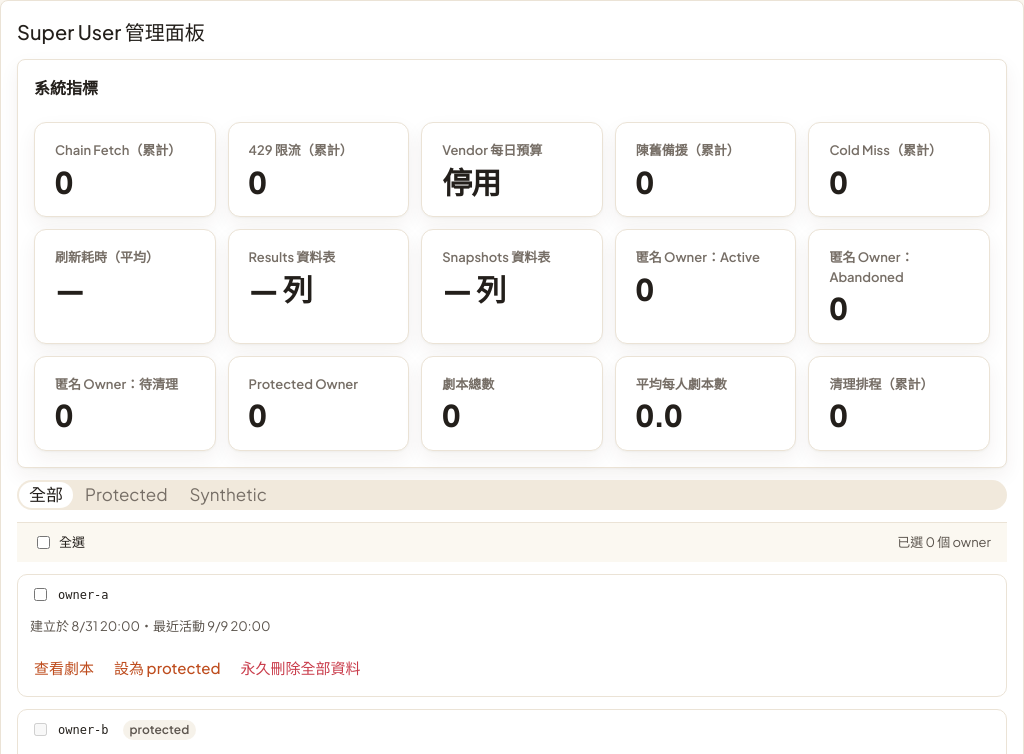
Test: SuperUserAdmin › CLAUDE-BETA-LAUNCH-FINAL-001：全選／清除選取 › 只選一部分時全選呈現 indeterminate；清除選取把選取歸零
Check: the text "owner-a" is shown, box [58,586,109,604]
Click the checkbox named "選取 owner owner-a" at [40, 594], box [34,588,47,601]
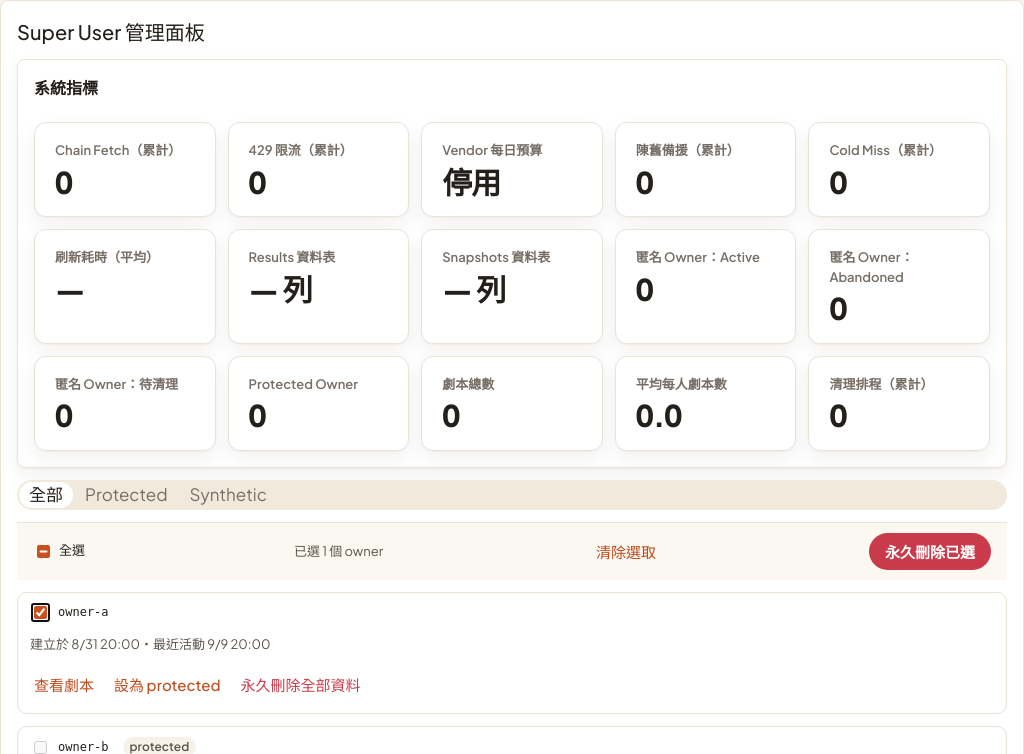
Check: the checkbox labelled "全選" is not checked, box [37,544,50,558]
Click the button "清除選取" at [626, 551], box [592,532,660,570]
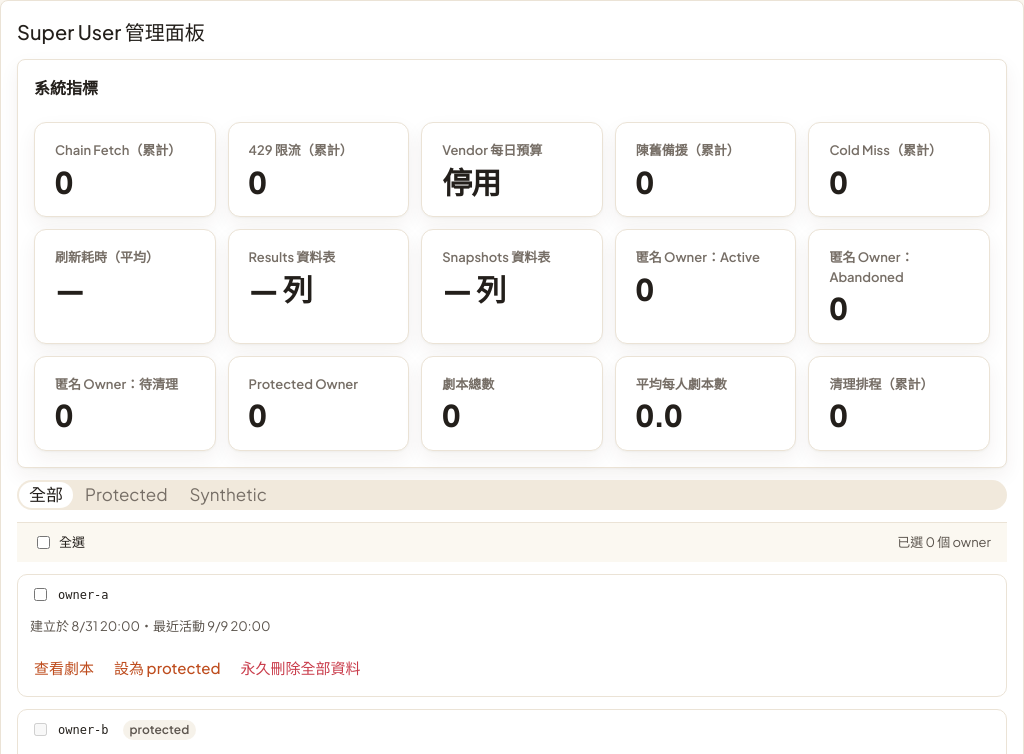
Check: the checkbox named "選取 owner owner-a" is not checked, box [34,588,47,601]
Check: the text "已選 0 個 owner" is shown, box [897,533,991,552]
Check: the button "永久刪除已選" is gone
